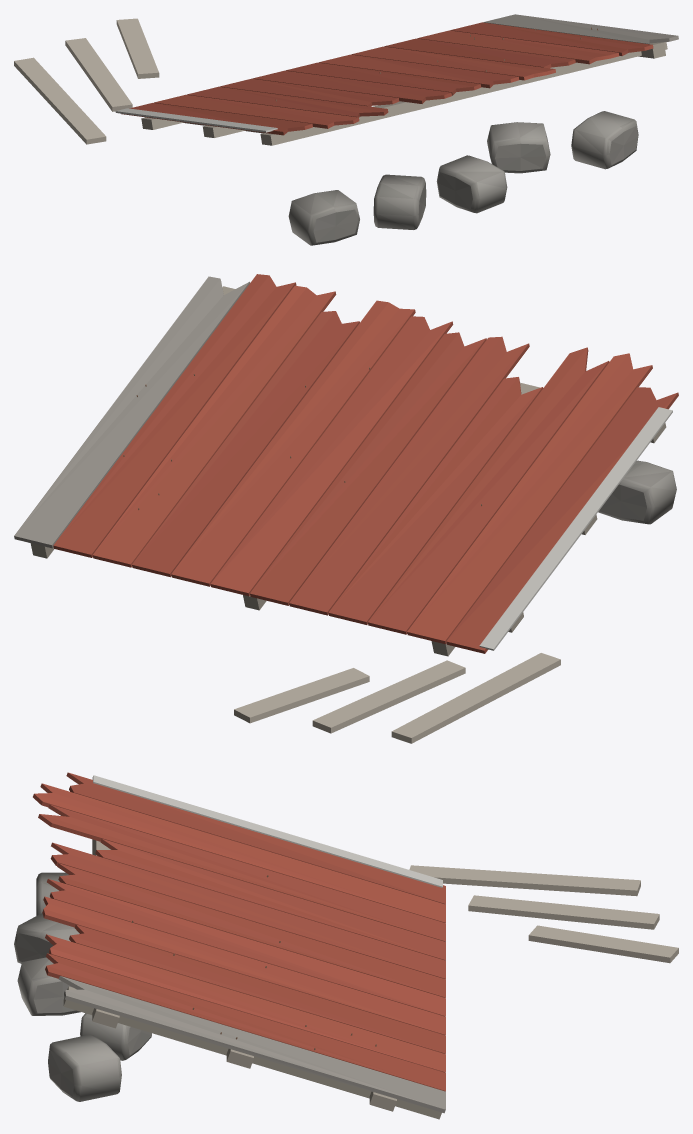
Rendered from storm_barn_panel_a.glb.
3 renders of one model, top to bottom at view 1: azimuth 30°, elevation 25°; view 2: azimuth 150°, elevation 25°; view 3: azimuth 270°, elevation 25°, orthographic. The views are drawn at different scales.
Visible parts, largest first — view 1: body; view 2: body; view 3: body.
Boxes of the visible parts, x1,y1,x2,y2 form: body: [14, 14, 678, 245]; body: [14, 274, 678, 743]; body: [14, 772, 678, 1119].
Size of what is drawn, in the model's own units: 3.37 by 0.8793 by 3.76.
